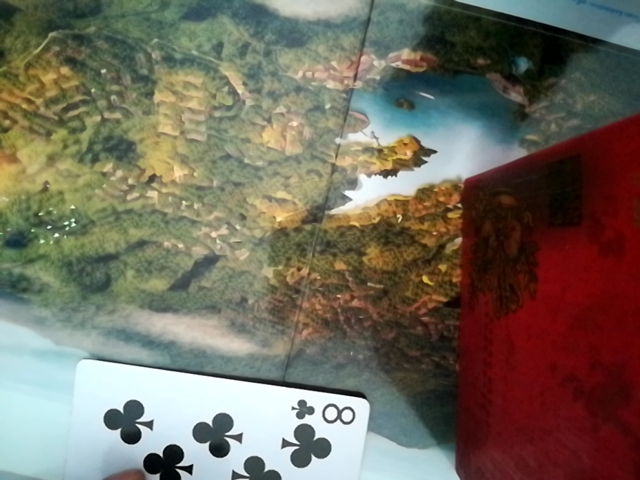mh 8: (40, 357, 390, 480)
